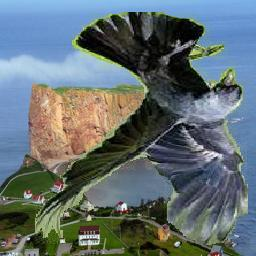Crow: (32, 13, 249, 246)
